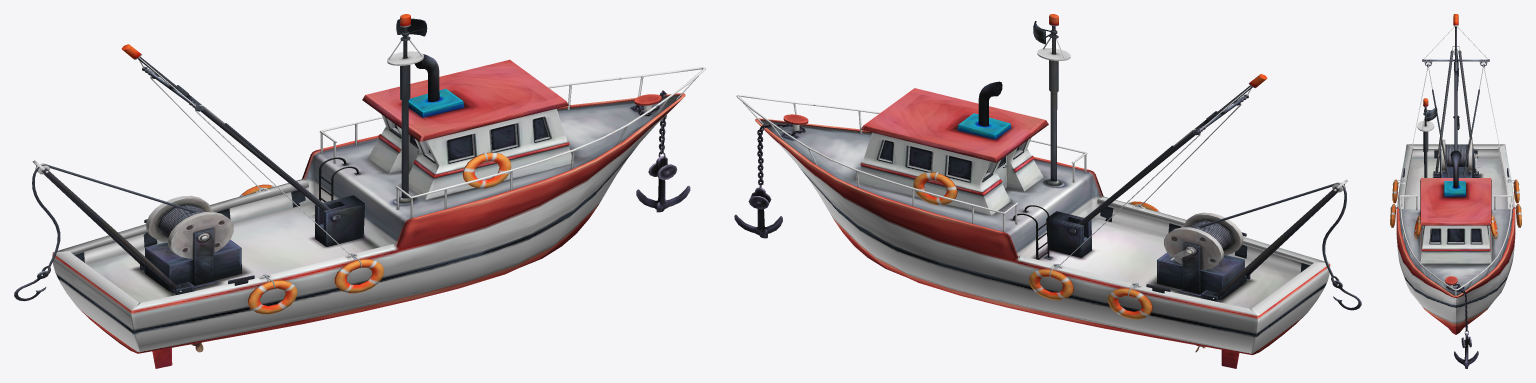
Rendered from ship.fbx.
3 renders of one model, left to right at view 1: azimuth 30°, elevation 25°; view 2: azimuth 150°, elevation 25°; view 3: azimuth 270°, elevation 25°, orthographic. The views are drawn at different scales.
Parts seen in each view (by area): view 1: node_id79; view 2: node_id79; view 3: node_id79.
Part boxes in pixels (x1=…): node_id79: x1=14, y1=14, x2=705, y2=368; node_id79: x1=734, y1=14, x2=1361, y2=368; node_id79: x1=1390, y1=14, x2=1521, y2=368.
Bounding box in the file's own units: 6818 × 3123 × 1823.
